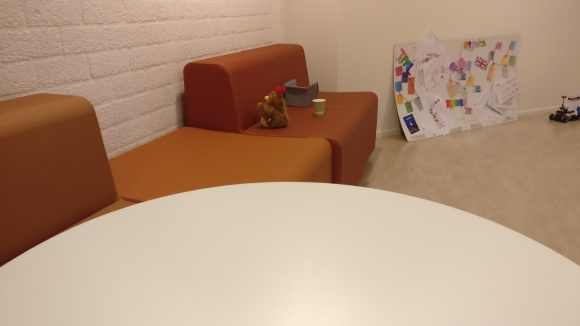car: (549, 92, 580, 124)
cup: (254, 84, 290, 130), (311, 98, 327, 117)
